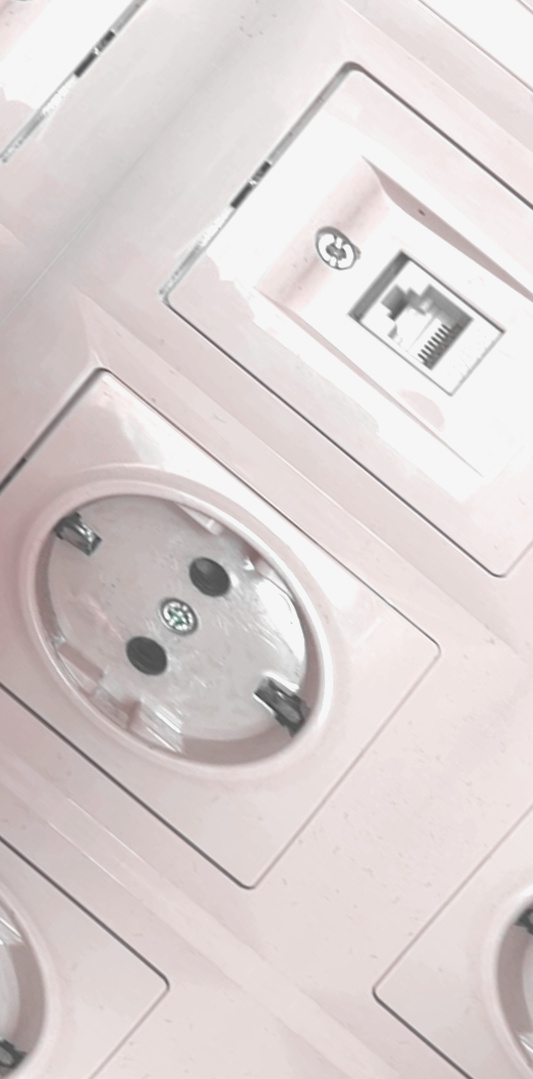Network Outlet: (277, 188, 523, 418)
Power Outlet: (18, 477, 336, 781)
